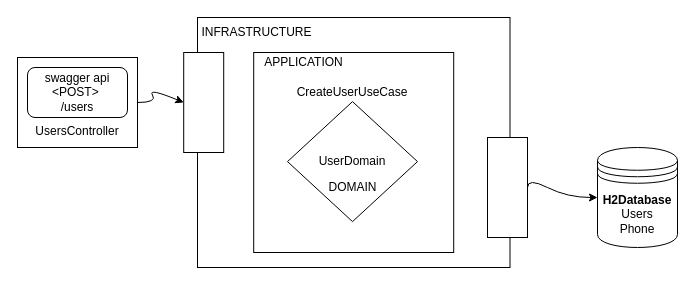
The diagram is 695 pixels wide and 285 high, and some of its shapes have lost their labels. Here are the shapes that lost their labels. From the top down, the centre of each, then its label:
the point at 203,102: infrastructure rest adapter
the point at 507,187: infrastructure repository adapter
